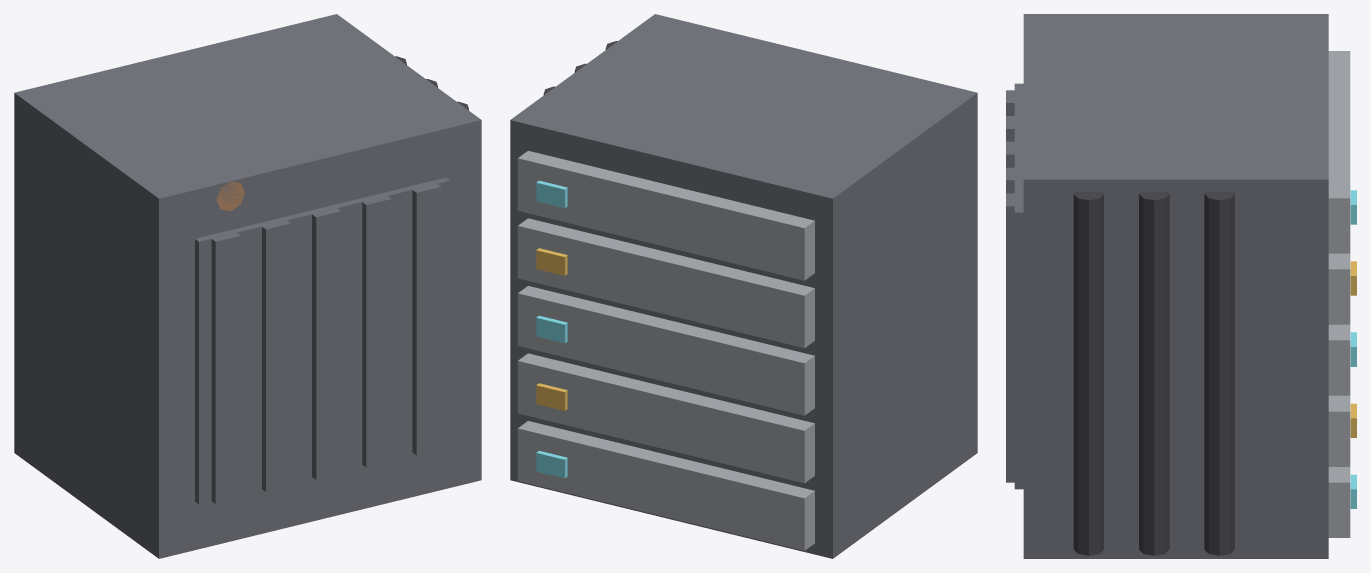
File: core_rack.glb
3 renders of one model, left to right at view 1: azimuth 30°, elevation 25°; view 2: azimuth 150°, elevation 25°; view 3: azimuth 270°, elevation 25°, orthographic. The views are drawn at different scales.
Size of the model in its own units: 0.947 by 0.96 by 0.805.
